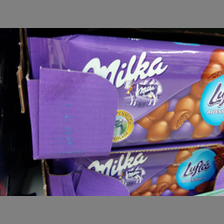chocolate: (29, 33, 224, 144), (55, 147, 224, 197)
